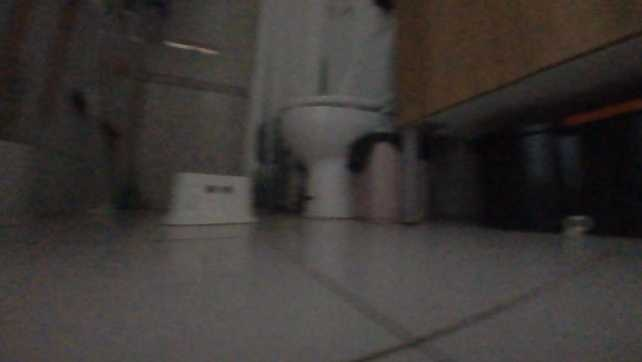toilet: (274, 21, 394, 219)
trash_can: (353, 128, 431, 220)
